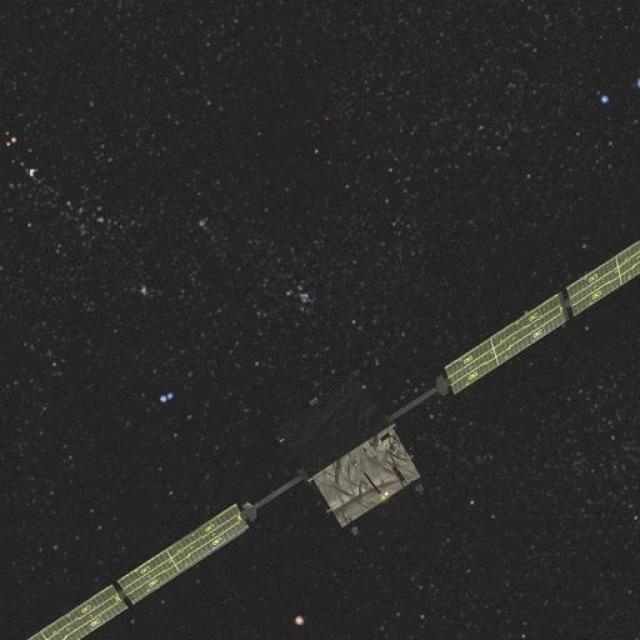smart_1: (179, 324, 596, 601)
